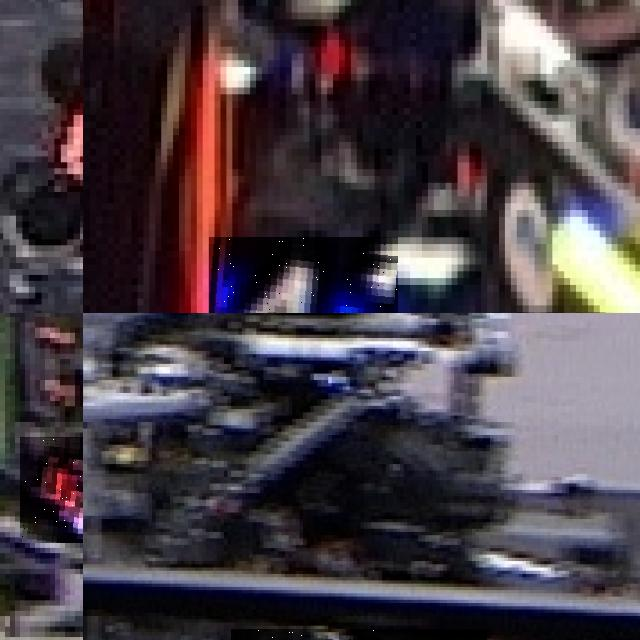B4: (208, 237, 398, 313)
R2: (20, 437, 83, 542)
